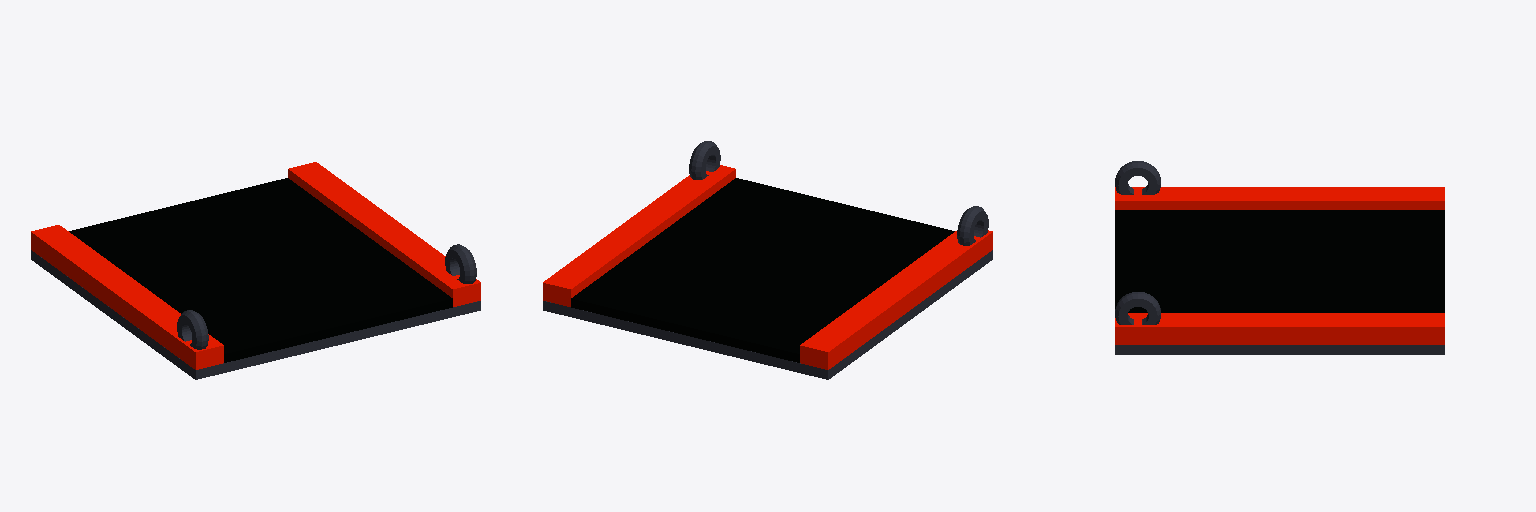
The model's file is bridge.obj.
The picture shows the model from 3 angles: view 1: azimuth 30°, elevation 25°; view 2: azimuth 150°, elevation 25°; view 3: azimuth 270°, elevation 25°; orthographic projection.
Parts seen in each view (by area): view 1: straight, porch_floorCenter, detail_tire; view 2: straight, porch_floorCenter, detail_tire; view 3: straight, porch_floorCenter, detail_tire.
Part boxes in pixels (x1,y1,x2,y2): straight: (31, 162, 480, 369); porch_floorCenter: (31, 250, 480, 379); detail_tire: (177, 244, 476, 349); straight: (543, 165, 992, 369); porch_floorCenter: (543, 250, 992, 379); detail_tire: (689, 141, 988, 245); straight: (1115, 187, 1444, 344); porch_floorCenter: (1115, 345, 1444, 354); detail_tire: (1115, 161, 1160, 324).
Size of the model in its own units: 1 by 0.193 by 1.